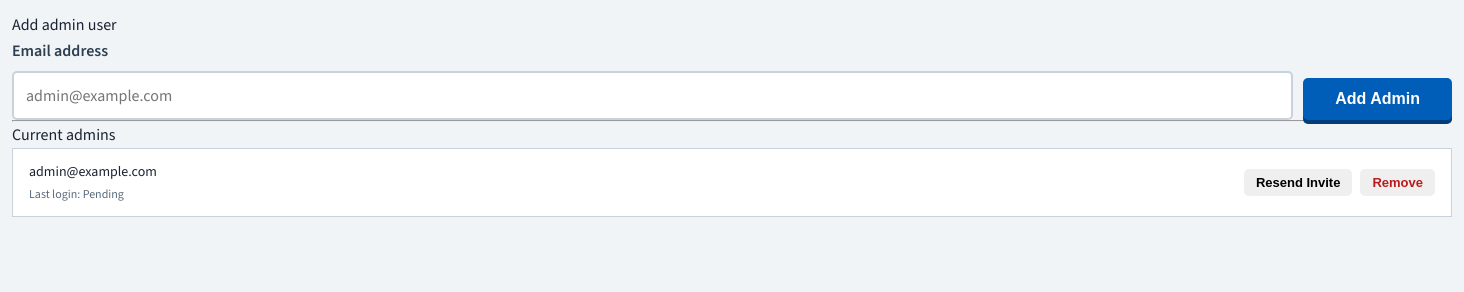
Test: UsersTab — resend invitation › shows a success message when resend succeeds with email_sent true
Click the button "Resend Invite" at [1298, 183], box [1244,169,1352,196]
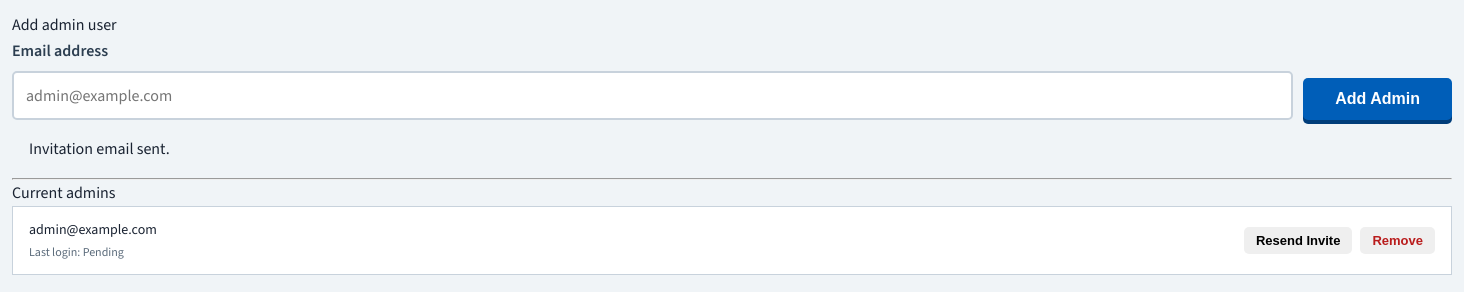
Expected: the text "Invitation email sent." is shown, [29,138,170,159]
